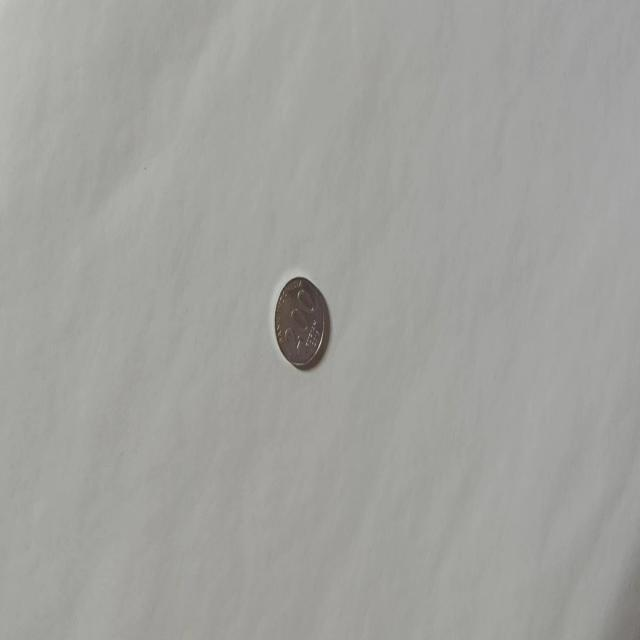dua ratus rupiah: (274, 275, 326, 369)
